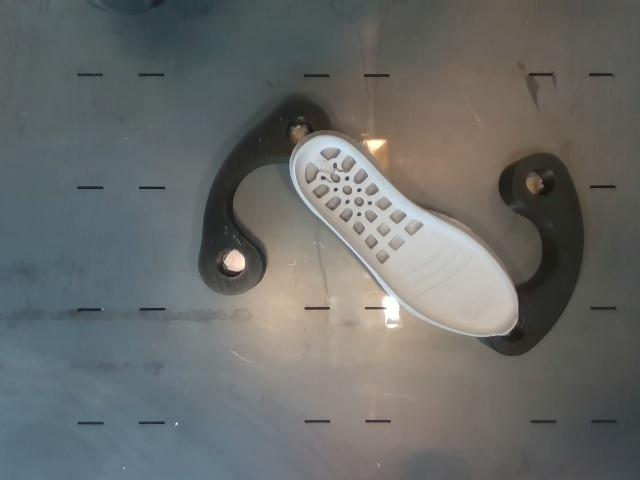shoes: (292, 132, 518, 337)
